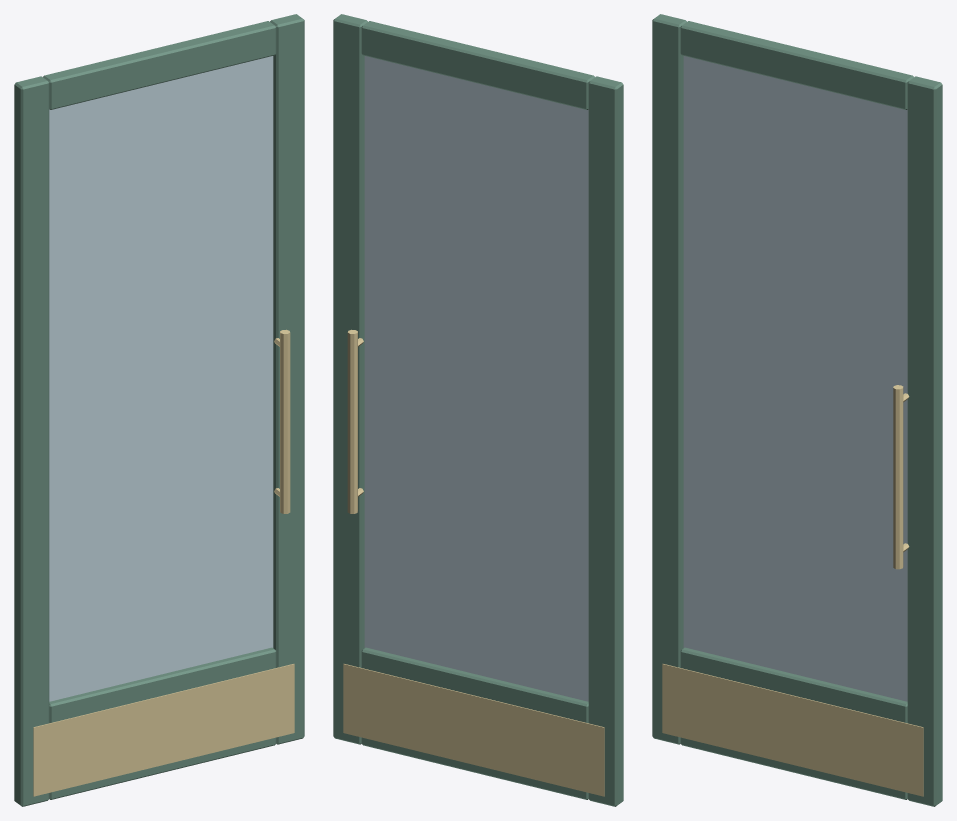
Rendered from door_shop.glb.
The picture shows the model from 3 angles, left to right: view 1: azimuth 30°, elevation 25°; view 2: azimuth 150°, elevation 25°; view 3: azimuth 330°, elevation 25°; orthographic projection.
Visible parts, largest first — view 1: door_shop_glass, door_shop_shop_g, door_shop_brass; view 2: door_shop_glass, door_shop_shop_g, door_shop_brass; view 3: door_shop_glass, door_shop_shop_g, door_shop_brass.
Boxes of the visible parts, left/top/right/bottom form: door_shop_glass: left=49, top=56, right=273, bottom=701; door_shop_shop_g: left=14, top=14, right=304, bottom=806; door_shop_brass: left=33, top=329, right=294, bottom=796; door_shop_glass: left=364, top=56, right=588, bottom=701; door_shop_shop_g: left=333, top=14, right=623, bottom=806; door_shop_brass: left=343, top=329, right=604, bottom=796; door_shop_glass: left=683, top=56, right=907, bottom=701; door_shop_shop_g: left=652, top=14, right=942, bottom=806; door_shop_brass: left=662, top=385, right=923, bottom=796.
Size of the model in its own units: 0.99 by 2.4 by 0.182.
